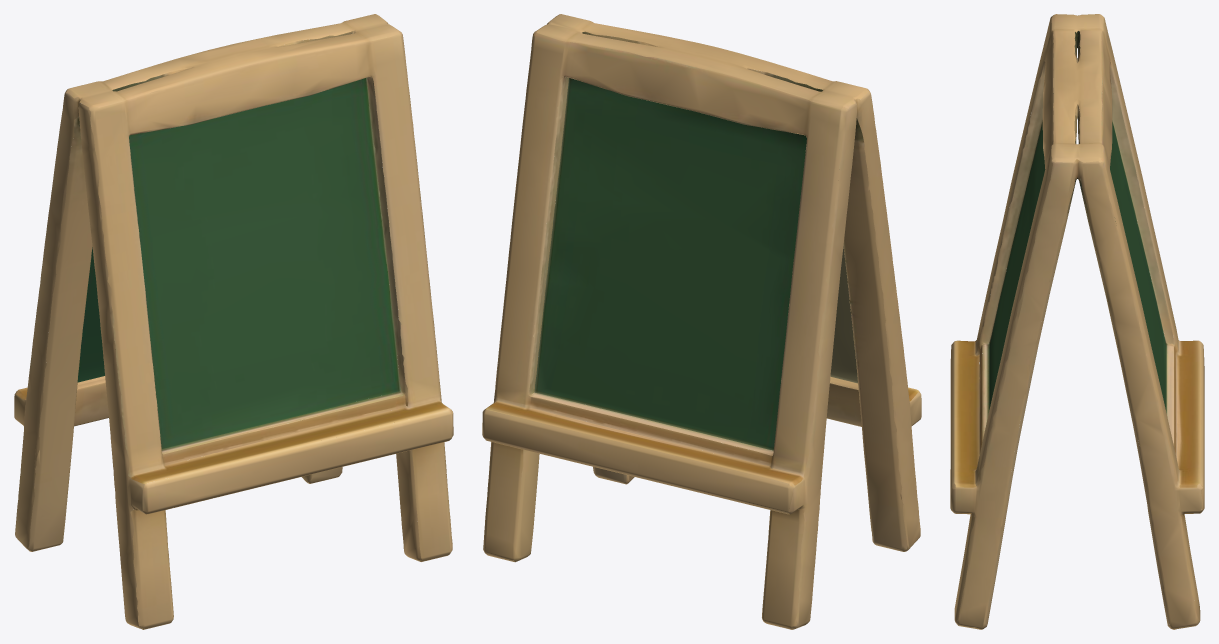
The model's file is chalkboard.glb.
3 views of the same model, side by side, from view 1: azimuth 30°, elevation 25°; view 2: azimuth 150°, elevation 25°; view 3: azimuth 270°, elevation 25° (orthographic). The views are drawn at different scales.
Parts seen in each view (by area): view 1: tmpzqrvm3ps.ply; view 2: tmpzqrvm3ps.ply; view 3: tmpzqrvm3ps.ply.
Boxes of the visible parts, x1,y1,x2,y2 form: tmpzqrvm3ps.ply: (14, 14, 453, 629); tmpzqrvm3ps.ply: (482, 14, 921, 629); tmpzqrvm3ps.ply: (950, 14, 1204, 629).
Bounding box in the file's own units: 1.33 × 1.99 × 0.9633.
Materials: 1 (1 with a texture image).
